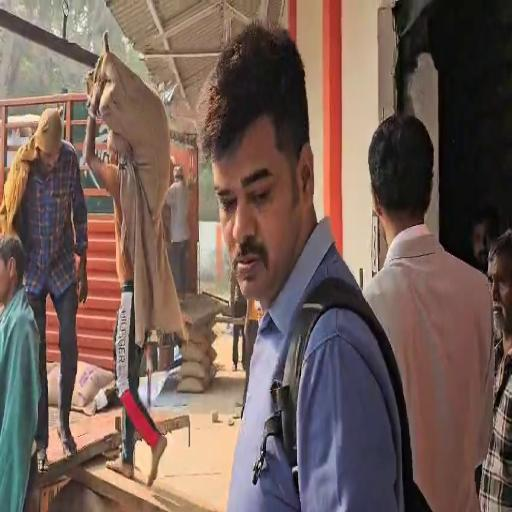bag: (84, 30, 170, 214)
